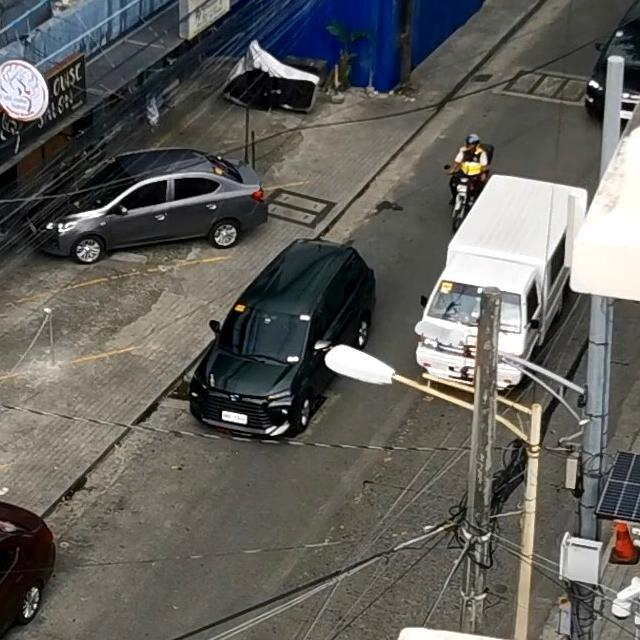Motorcycle: (432, 116, 510, 255)
